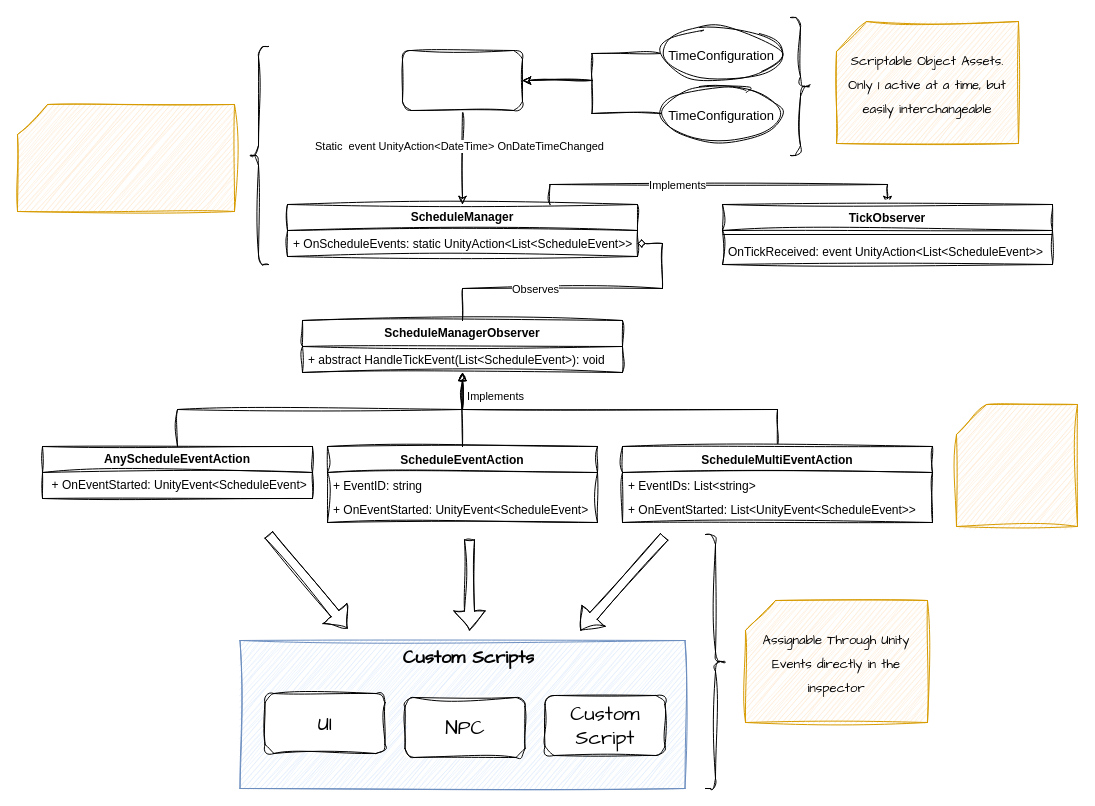
Some shapes in this 1095 by 806 pixel diagram are drawn without their labels. Each missing label, with the centre of its shape:
"Only 1 TimeManager AND 1 ScheduleManager active at a time." belongs at point (125, 158).
"TimeManager" belongs at point (462, 80).
"To be placed on Gameobjects That observe events" belongs at point (1017, 465).
